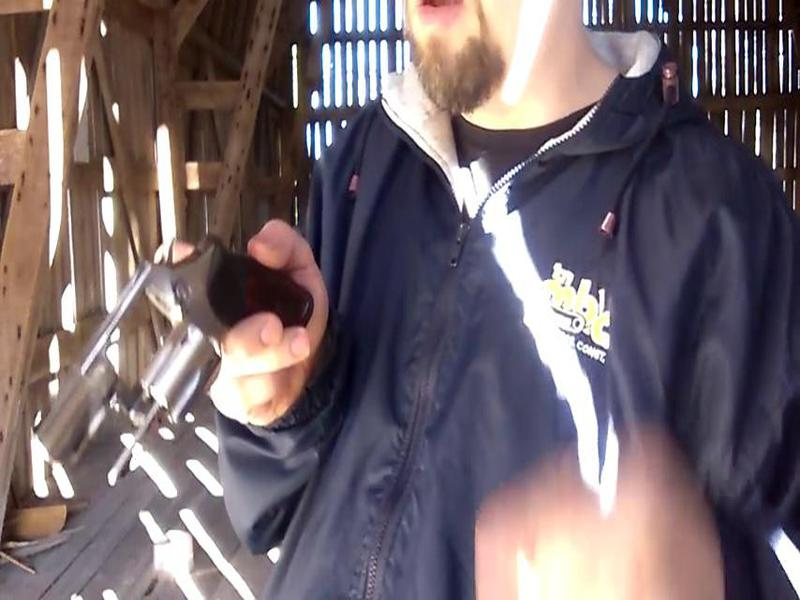Revolver: (35, 220, 323, 484)
